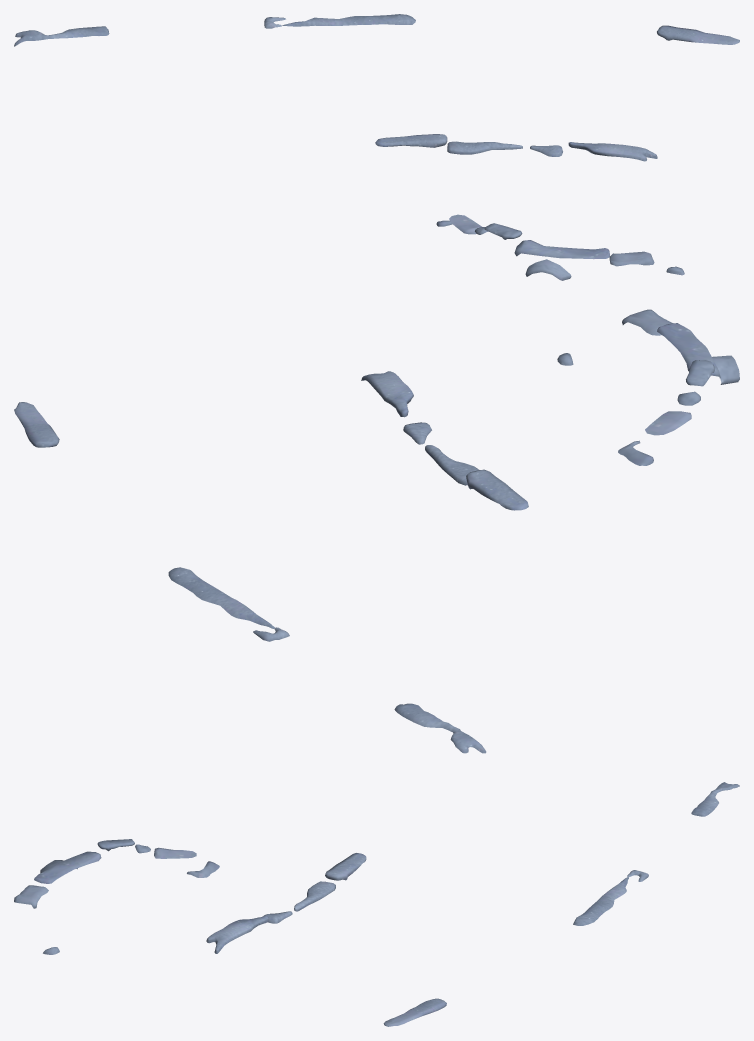
Rendered from pref_sm_beach_winter_snow10_lv1.fbx.
3 views of the same model, one above another, from view 1: azimuth 30°, elevation 25°; view 2: azimuth 150°, elevation 25°; view 3: azimuth 270°, elevation 25° (orthographic). The views are drawn at different scales.
Parts seen in each view (by area): view 1: pref_sm_beach_winter_snow10_lv1; view 2: pref_sm_beach_winter_snow10_lv1; view 3: pref_sm_beach_winter_snow10_lv1.
Part boxes in pixels (x1,y1,x2,y2): pref_sm_beach_winter_snow10_lv1: (14,14,739,280); pref_sm_beach_winter_snow10_lv1: (14,309,739,753); pref_sm_beach_winter_snow10_lv1: (14,782,739,1026).
Bounding box in the file's own units: 25.35 × 2.3 × 31.51.
